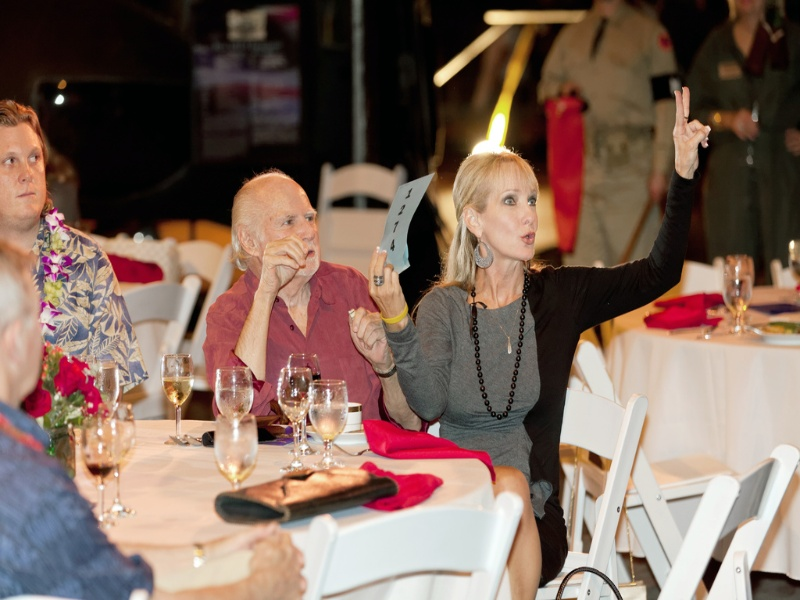person: (409, 90, 566, 569), (1, 97, 144, 424), (216, 163, 376, 445)
